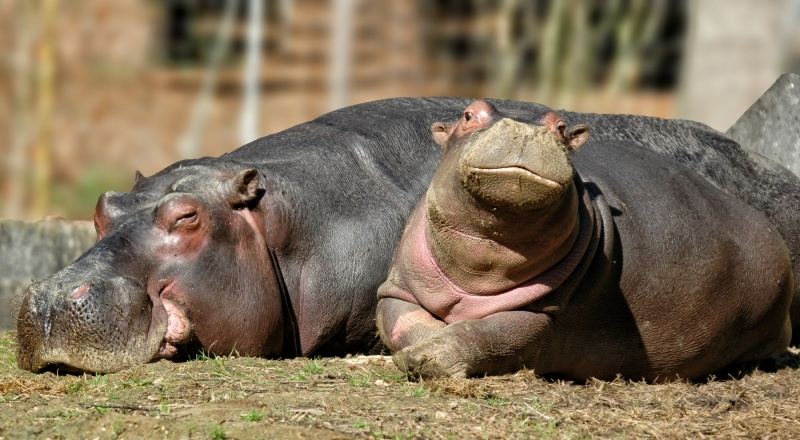hipopotamo: (16, 92, 800, 368), (379, 99, 797, 396)
